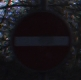No entry: (8, 8, 74, 73)
